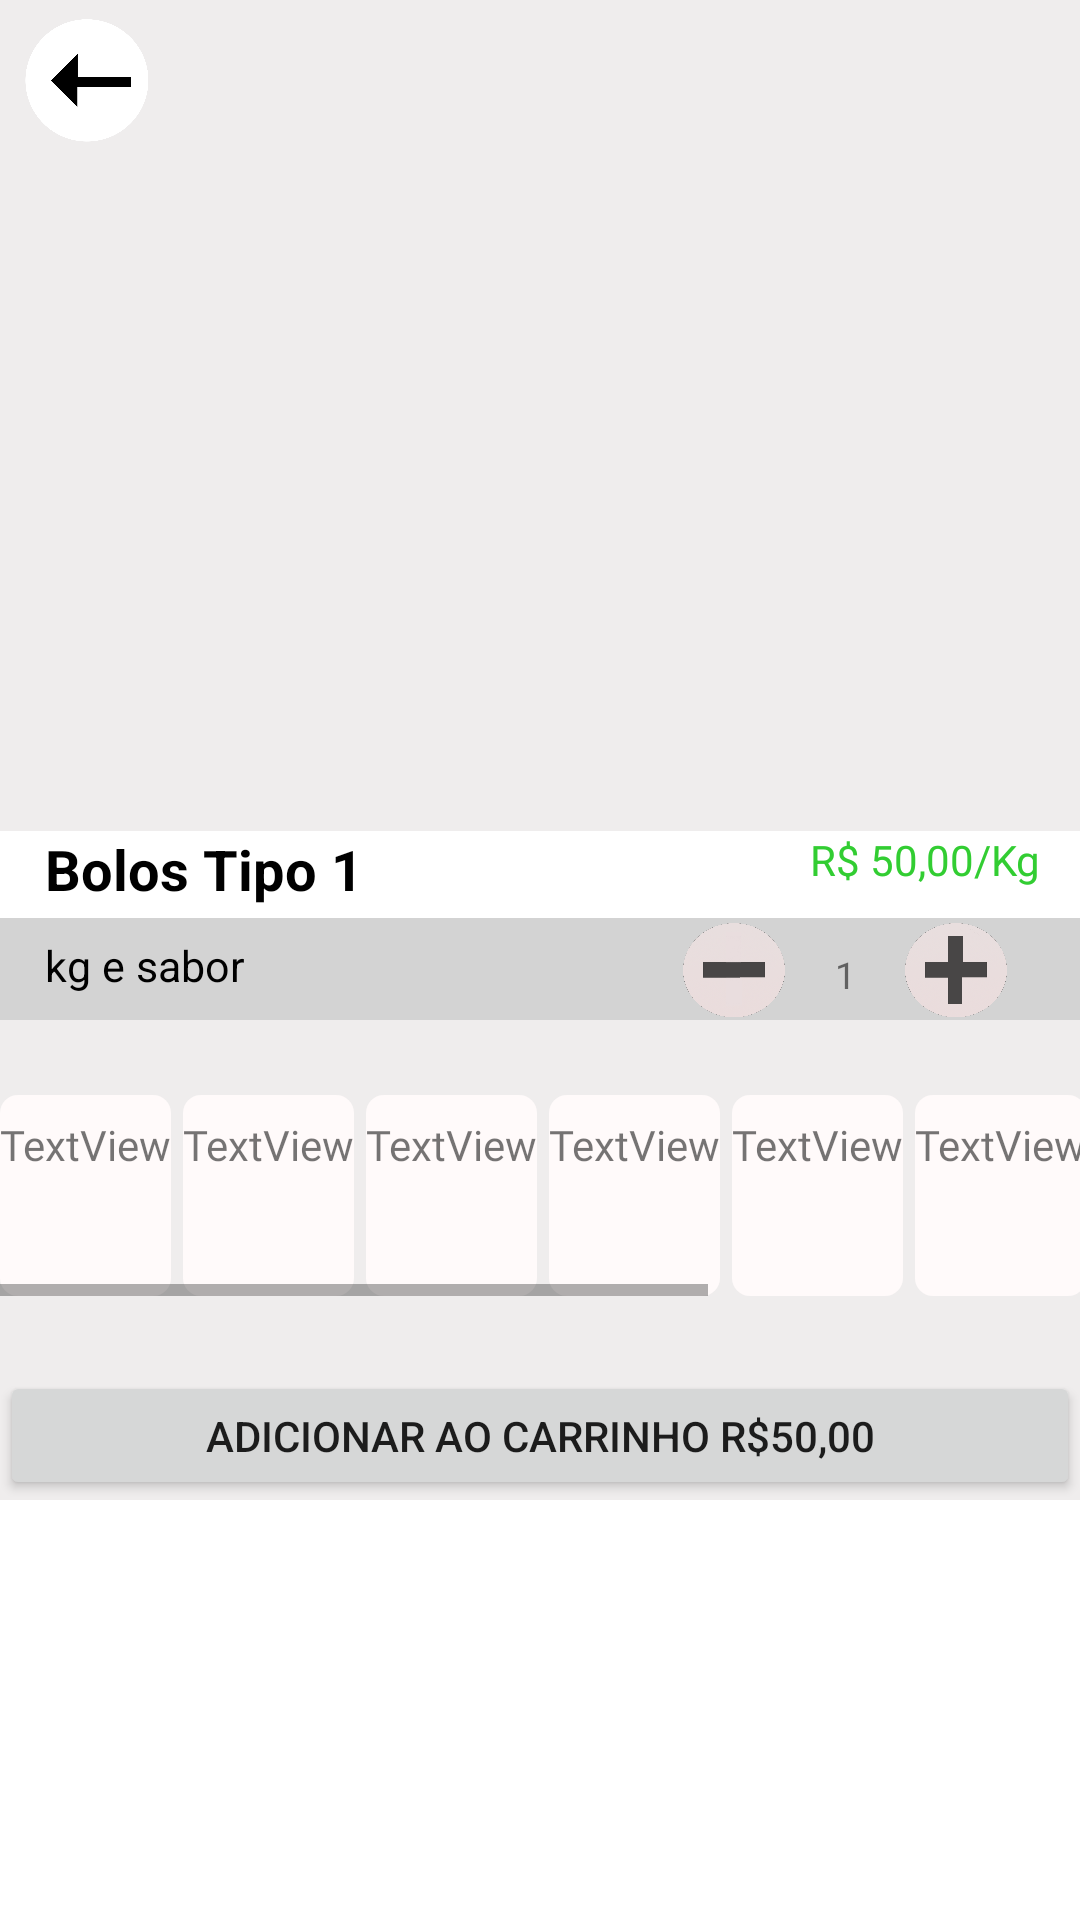

Named icons in this screenshot (1080 × 1920) and their centers, [x,y]:
sinal soma: [956,970]
sinal subtracao: [734,970]
sinal voltar: [86,80]
